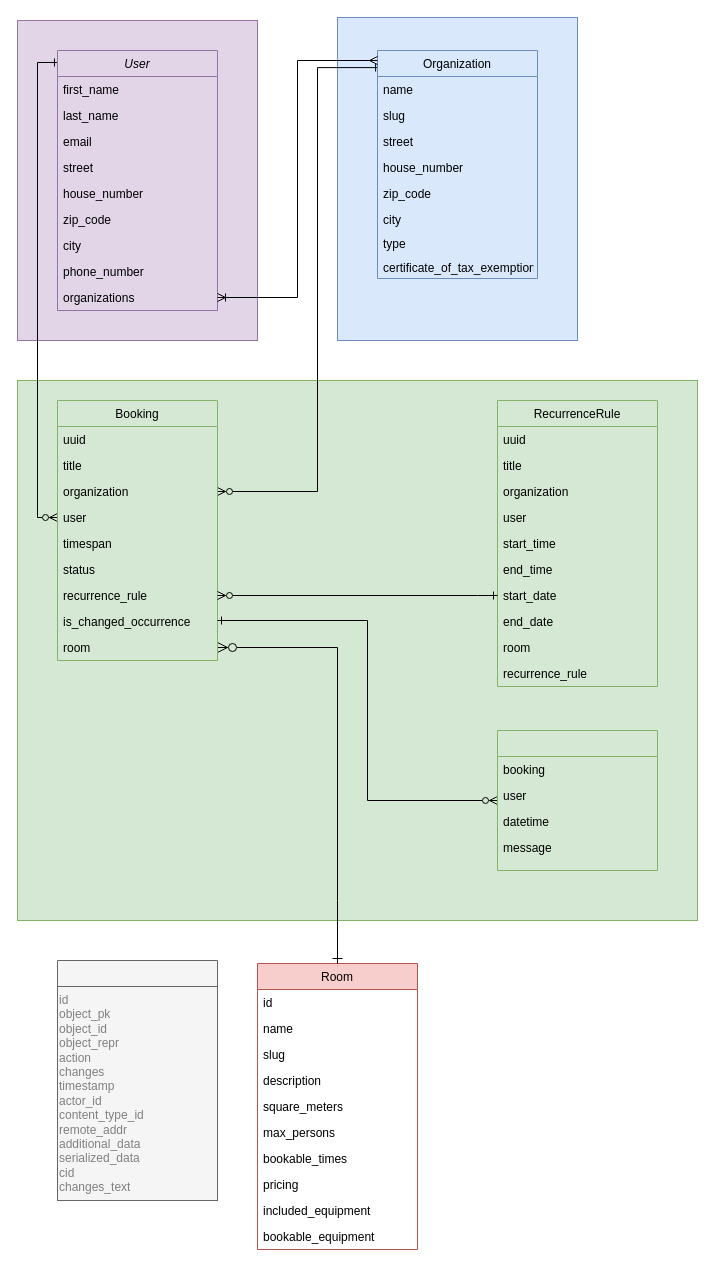
This 715x1270 diagram has some shape labels left out. Each missing label, with the box of its shape:
auditlog_logentry: (56, 960, 218, 1200)
BookingMessage: (496, 730, 658, 870)
